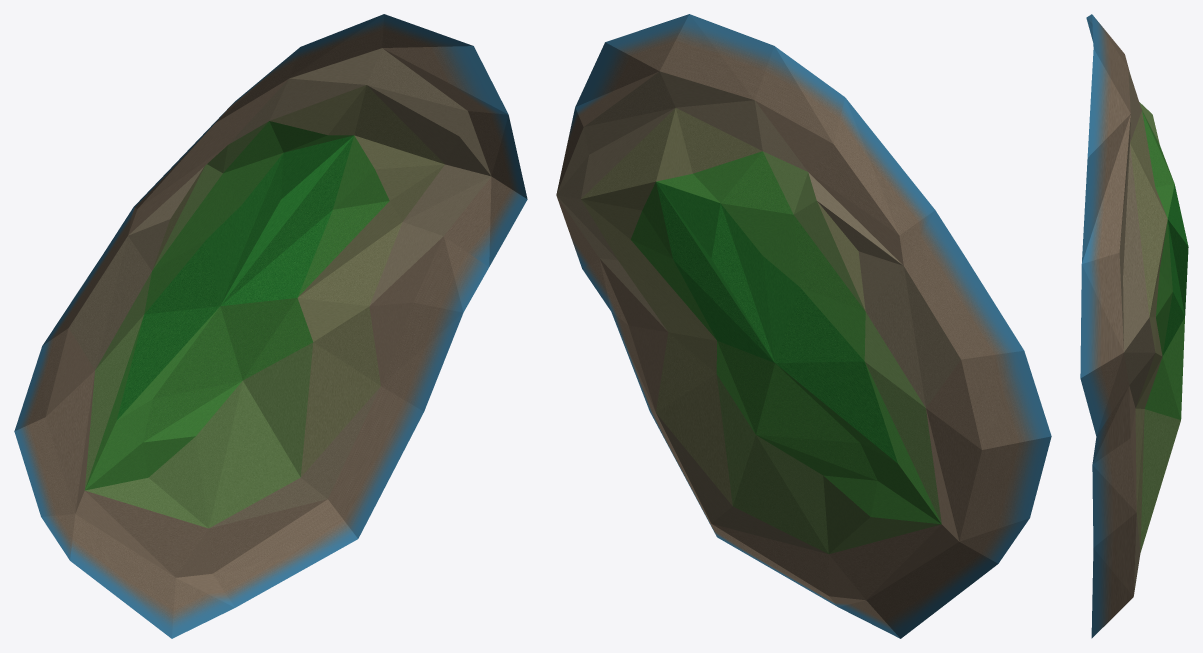
File: green_land_sub_1.FBX
3 renders of one model, left to right at view 1: azimuth 30°, elevation 25°; view 2: azimuth 150°, elevation 25°; view 3: azimuth 270°, elevation 25°, orthographic. The views are drawn at different scales.
Parts seen in each view (by area): view 1: Icosphere.004; view 2: Icosphere.004; view 3: Icosphere.004.
Boxes of the visible parts, bbox=[...] form: Icosphere.004: bbox=[14, 14, 527, 638]; Icosphere.004: bbox=[556, 14, 1051, 638]; Icosphere.004: bbox=[1080, 14, 1188, 638].
Bounding box in the file's own units: 1810 × 1968 × 287.
